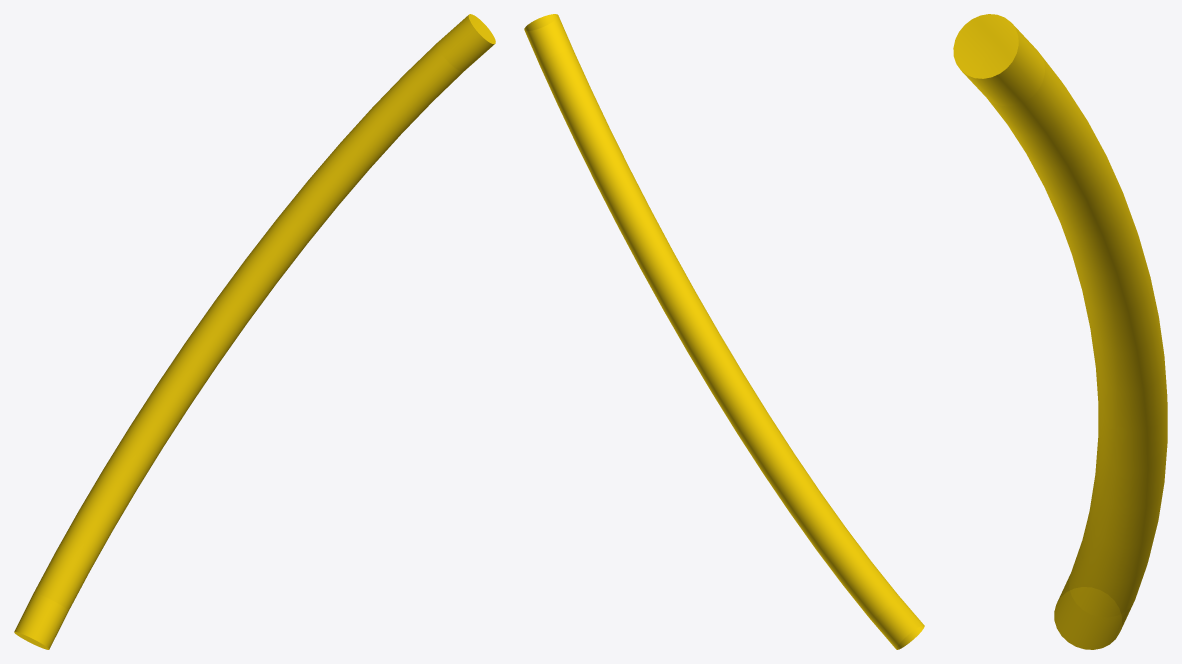
File: Event_421278790_track_34.fbx
3 views of the same model, side by side, from view 1: azimuth 30°, elevation 25°; view 2: azimuth 150°, elevation 25°; view 3: azimuth 270°, elevation 25° (orthographic). The views are drawn at different scales.
Visible parts, largest first — view 1: Model; view 2: Model; view 3: Model.
Boxes of the visible parts, x1,y1,x2,y2 form: Model: [14, 14, 495, 649]; Model: [524, 14, 924, 649]; Model: [953, 14, 1167, 649].
Size of the model in its own units: 0.524 by 0.6201 by 0.123.
